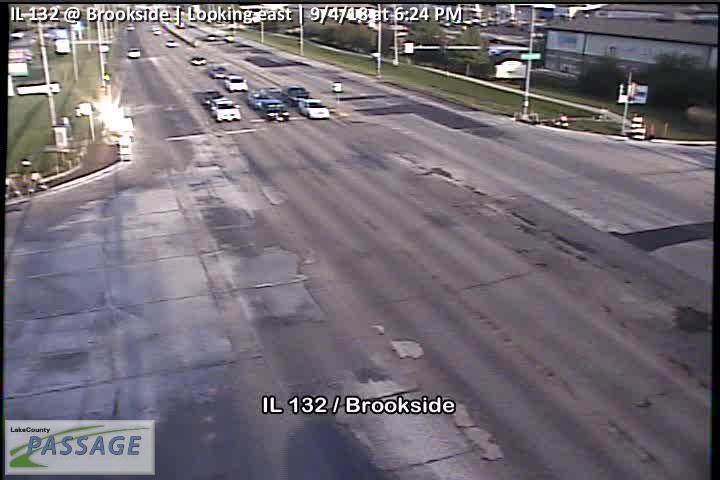SUV: (257, 95, 289, 122), (208, 98, 240, 121), (281, 84, 310, 106)
Sedan: (297, 97, 330, 119), (223, 73, 248, 92), (127, 46, 140, 58)
